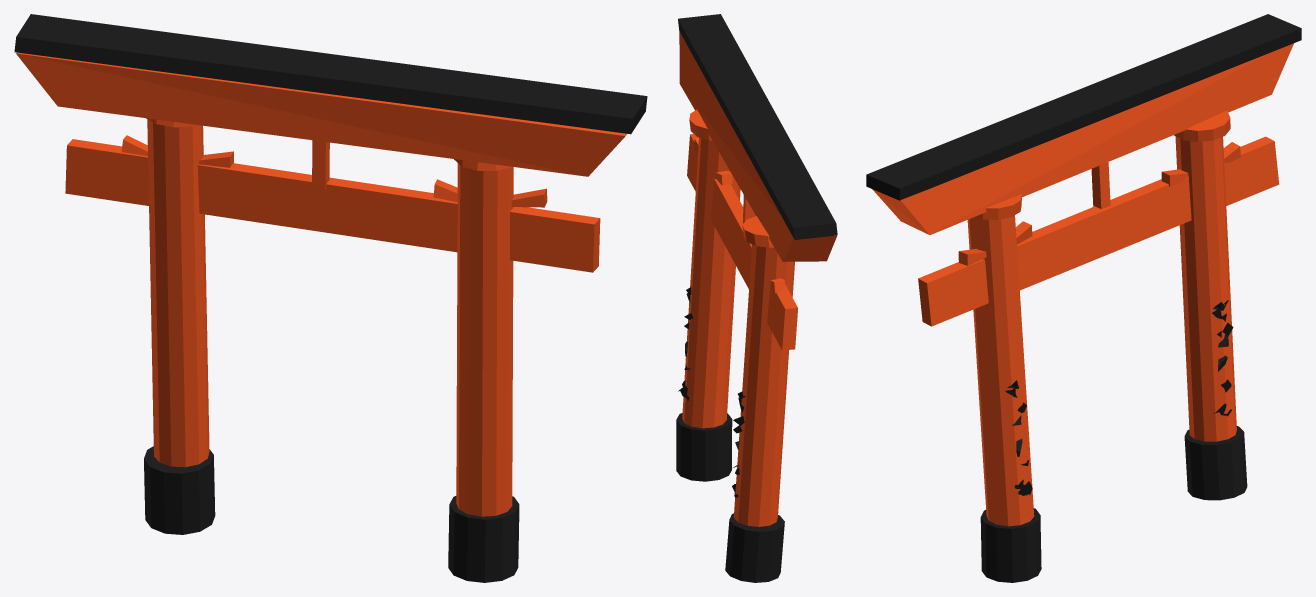
The model's file is torii.glb.
3 views of the same model, side by side, from view 1: azimuth 30°, elevation 25°; view 2: azimuth 150°, elevation 25°; view 3: azimuth 270°, elevation 25° (orthographic). The views are drawn at different scales.
Parts seen in each view (by area): view 1: Node; view 2: Node; view 3: Node.
Part boxes in pixels (x1,y1,x2,y2): Node: (14,14,647,582); Node: (676,14,837,582); Node: (866,14,1301,582).
Bounding box in the file's own units: 0.3428 × 0.3918 × 0.3637.
